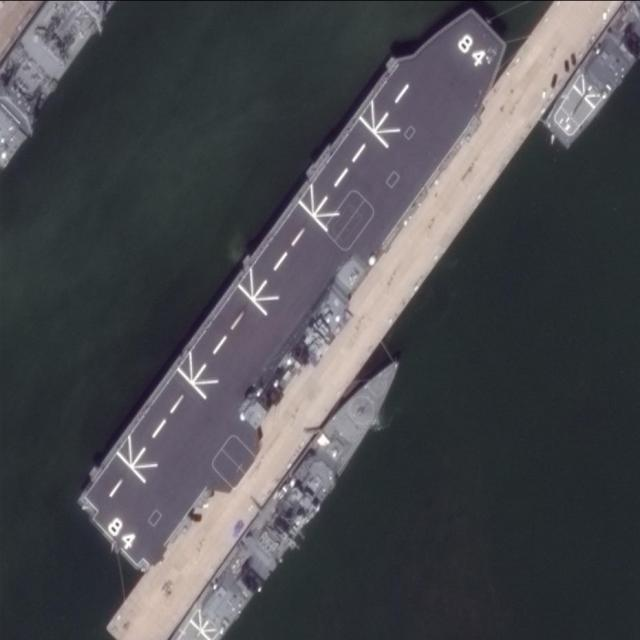Destroyer: (70, 2, 519, 568), (161, 361, 400, 639), (543, 4, 640, 147)
